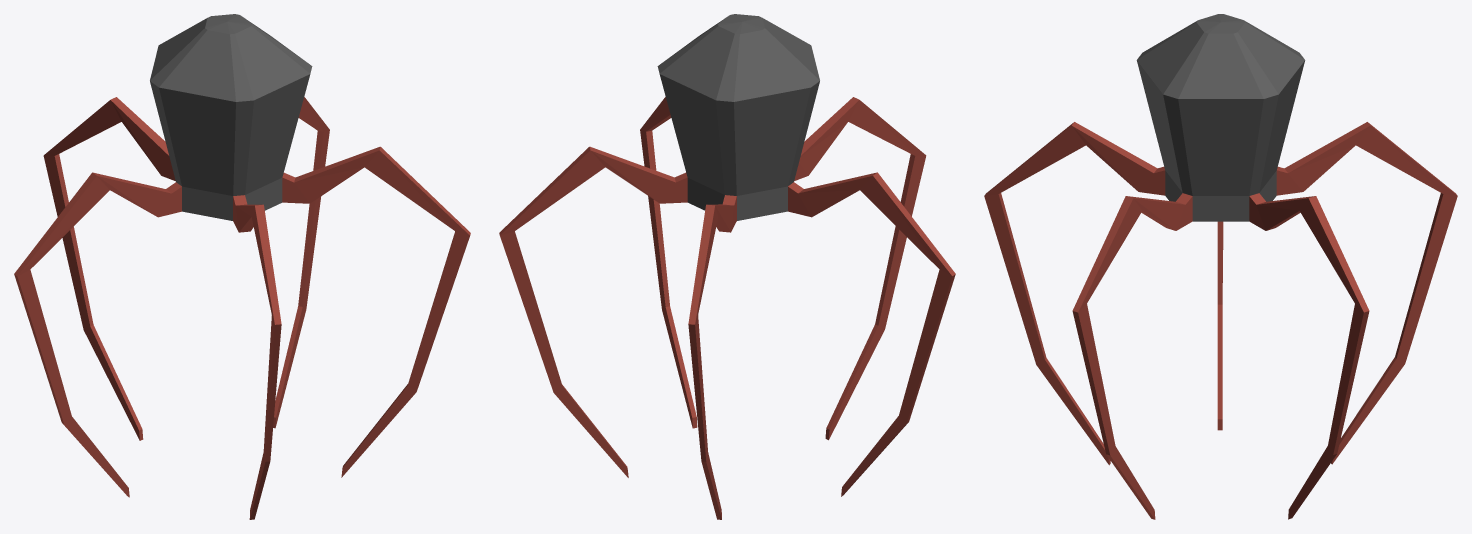
The model's file is monster.dae.
The picture shows the model from 3 angles, left to right: view 1: azimuth 30°, elevation 25°; view 2: azimuth 150°, elevation 25°; view 3: azimuth 270°, elevation 25°; orthographic projection.
Parts seen in each view (by area): view 1: $dummy_node (×2); view 2: $dummy_node (×2); view 3: $dummy_node (×2).
Boxes of the visible parts, x1,y1,x2,y2 form: $dummy_node (×2): [14, 14, 470, 519]; $dummy_node (×2): [499, 14, 955, 519]; $dummy_node (×2): [984, 14, 1457, 519].
Bounding box in the file's own units: 1.9 × 2.12 × 1.99.
